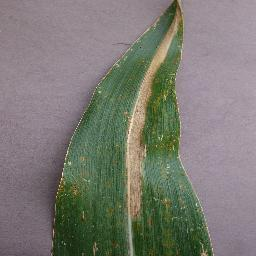Corn_Blight: (51, 148, 86, 249), (123, 97, 146, 230), (153, 187, 177, 256), (161, 65, 183, 112), (151, 132, 189, 157), (88, 228, 121, 256), (163, 0, 189, 35), (133, 63, 159, 97), (107, 39, 130, 75), (147, 36, 170, 61), (85, 81, 99, 110), (197, 241, 210, 256)
